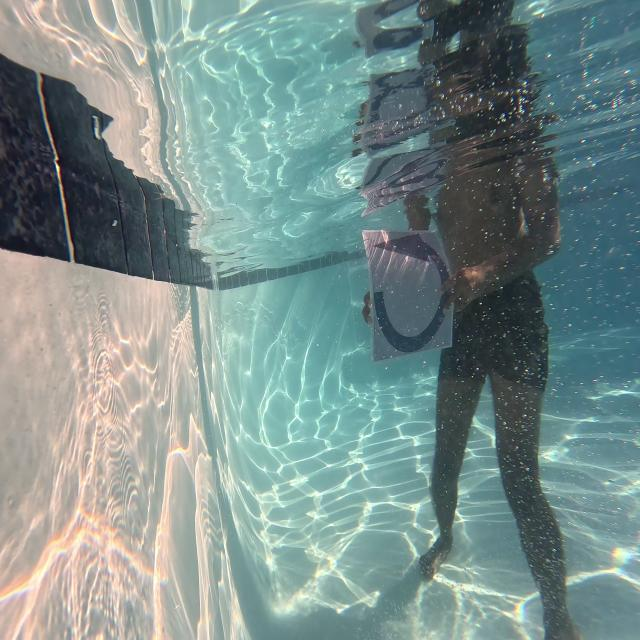blue_side: (371, 232, 451, 354)
